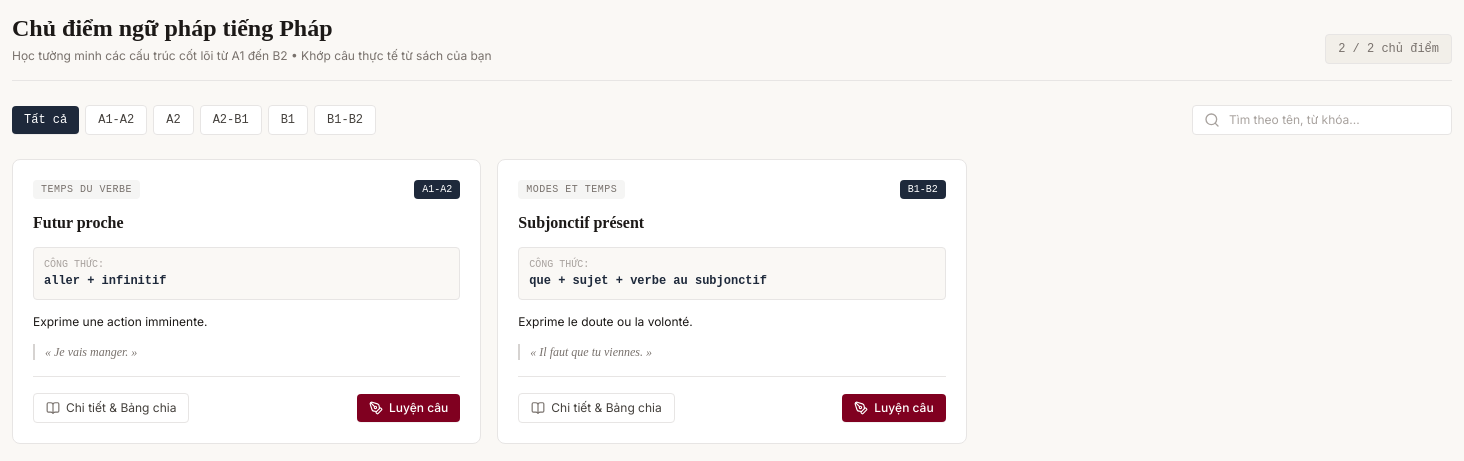
Task 6 - Grammar Exploration & Active Production › GrammarCatalogView component › renders rule cards and filters by level
The image size is (1464, 461).
expect the heading "Futur proche" is shown: met, box [33,214,124,231]
expect the heading "Subjonctif présent" is shown: met, box [518,214,644,231]
Note: Filter by level B1-B2
Click the button "B1-B2" at [345, 120], box [314,105,376,135]
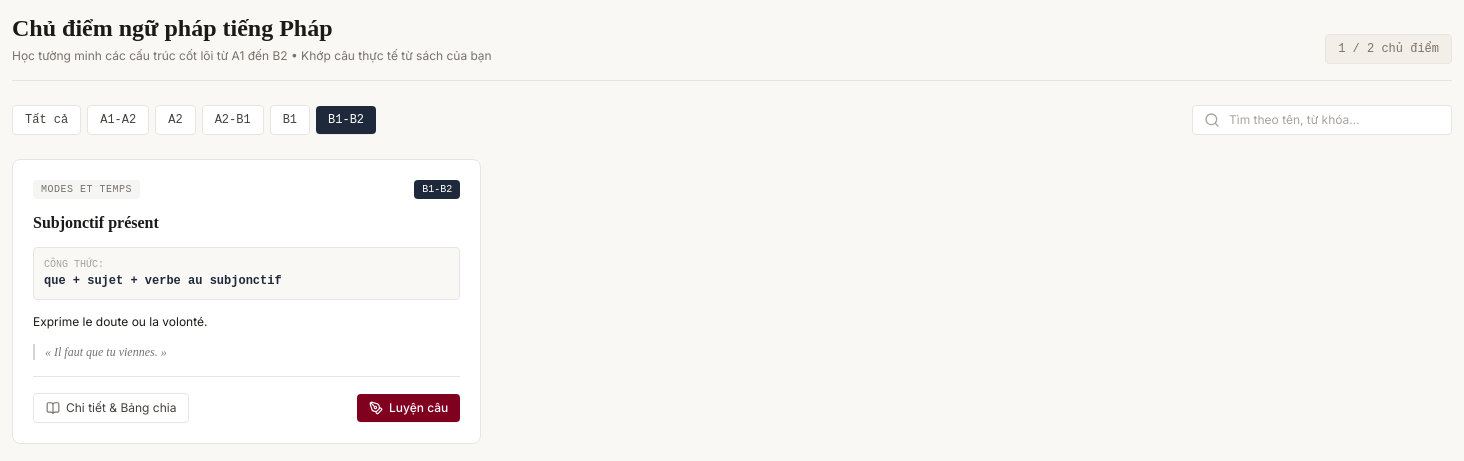
expect the heading "Subjonctif présent" is shown: met, box [33,214,159,231]
expect the heading "Futur proche" is gone: met
